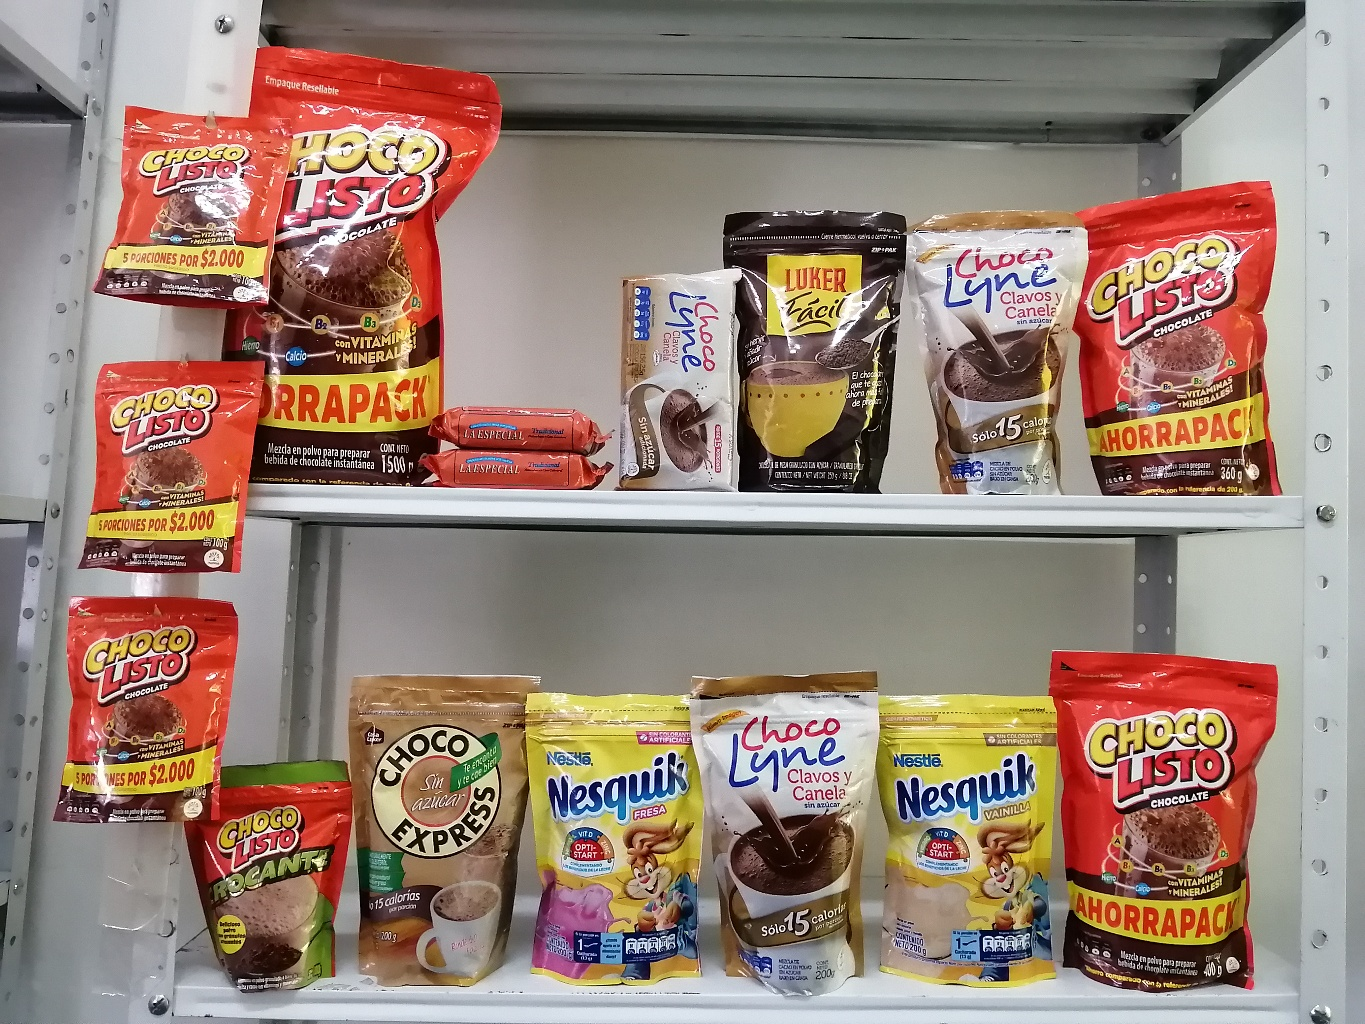COL0170102DYP10000: (174, 758, 358, 1007)
COL0170103DYP1,500: (231, 41, 516, 482)
COL0170103DYP10000: (101, 88, 289, 301)
COL0170103DYP36000: (1069, 184, 1288, 499)
COL0170103DYP40000: (1041, 644, 1271, 991)
COL0170305DYP20000: (514, 675, 714, 990)
COL0170306DYP20000: (886, 680, 1073, 984)
